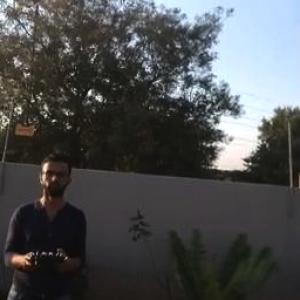follow: (0, 145, 89, 299)
